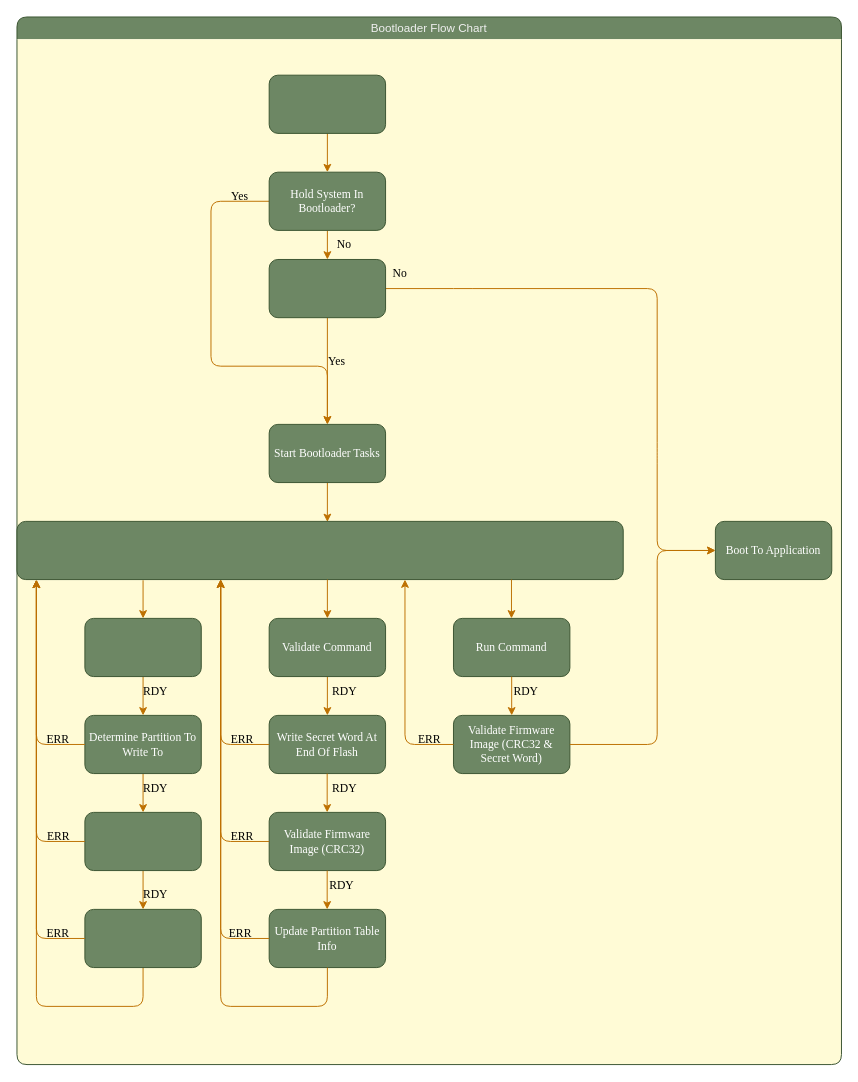
Image size: 858x1082. Some labels were removed from this diagram. The centre of each missing label's shape, as x and y in pixels:
Invalid Boot Image?: (327,288)
Send Data And Write To Flash: (142,841)
Send Length Of Data To Write: (142,938)
System Boot And Initialize: (327,103)
Wait For Command: (319,550)
Write Command: (142,647)
